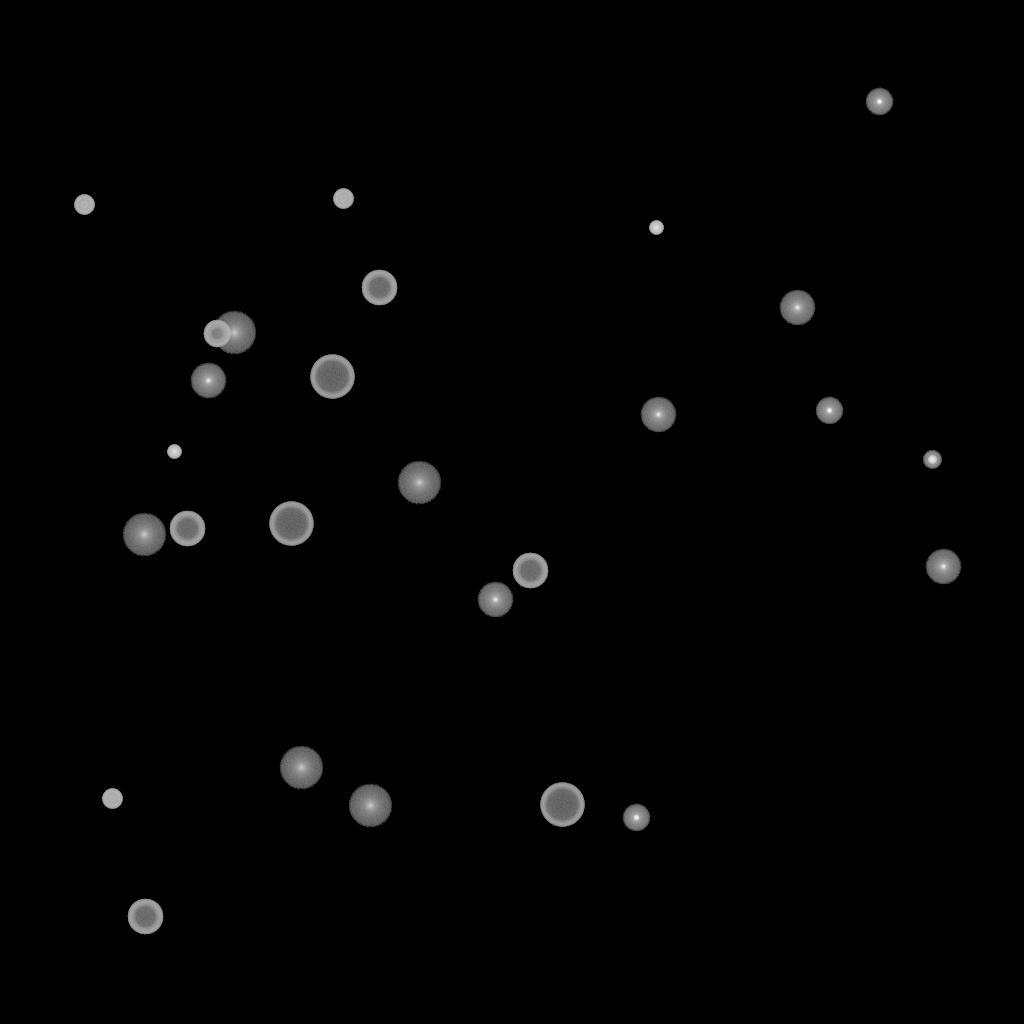depth:-10: (622, 804, 650, 832), (865, 88, 893, 116), (815, 397, 843, 425)
depth:-20: (923, 451, 941, 469)
depth:-30: (649, 221, 663, 235), (167, 445, 181, 459)
depth:-40: (102, 789, 122, 809), (333, 189, 353, 209), (74, 195, 94, 215)
depth:-50: (203, 320, 231, 348)
depth:-60: (169, 511, 205, 547), (361, 270, 397, 306), (512, 553, 548, 589), (127, 899, 163, 935)
depth:-70: (269, 502, 313, 546), (310, 355, 354, 399), (540, 783, 584, 827)
depth:0: (925, 549, 961, 585), (640, 397, 676, 433), (190, 363, 226, 399), (779, 290, 815, 326), (477, 582, 513, 618)
depth:10: (348, 784, 392, 828), (212, 311, 256, 355), (122, 513, 166, 557), (397, 461, 441, 505), (279, 746, 323, 790)
